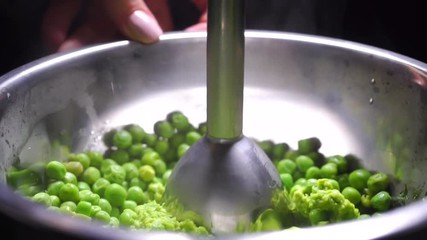boiled peas: (43, 162, 131, 209), (140, 126, 174, 168), (291, 153, 341, 179)
